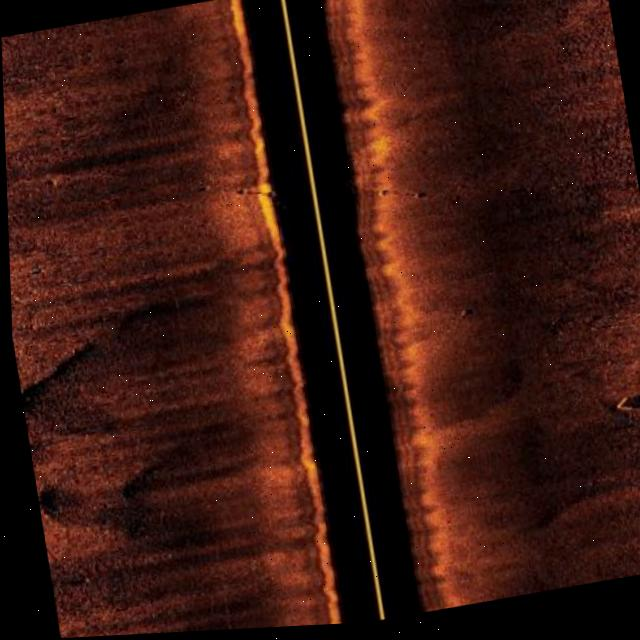mine: (244, 188, 268, 203)
other: (599, 392, 640, 425)
